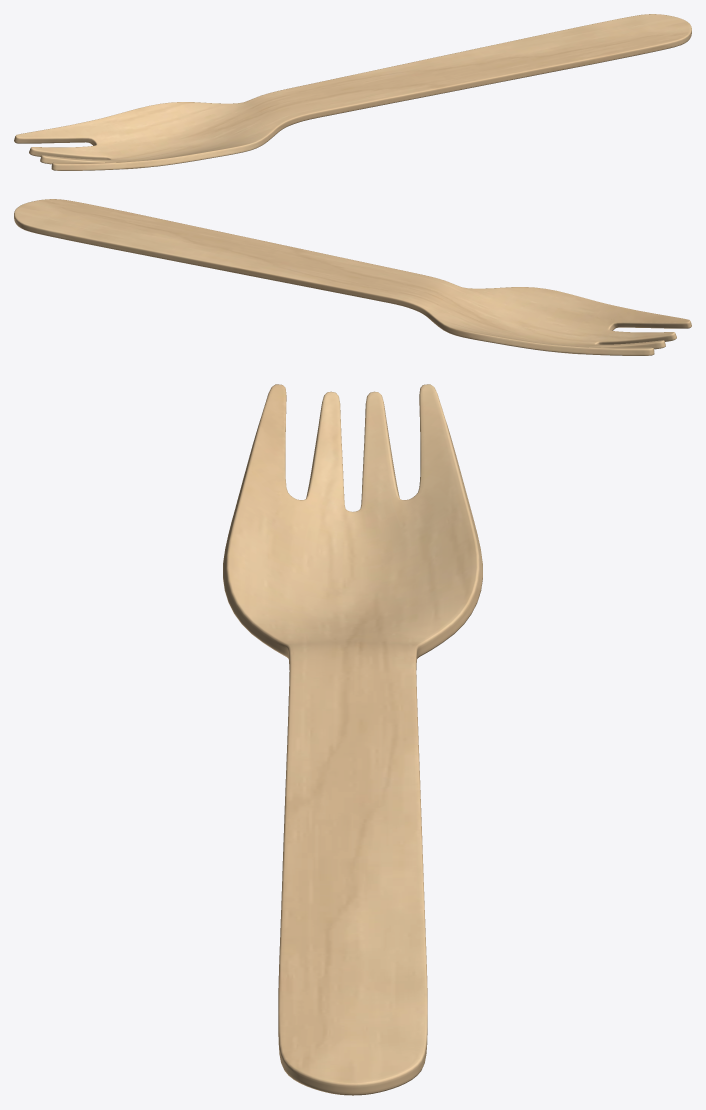
The model's file is 22-wooden-fork-clean-transformed.glb.
The picture shows the model from 3 angles, top to bottom: view 1: azimuth 30°, elevation 25°; view 2: azimuth 150°, elevation 25°; view 3: azimuth 270°, elevation 25°; orthographic projection. The views are drawn at different scales.
Parts seen in each view (by area): view 1: wooden_fork; view 2: wooden_fork; view 3: wooden_fork.
Boxes of the visible parts, x1,y1,x2,y2 form: wooden_fork: [14, 14, 691, 170]; wooden_fork: [14, 199, 691, 355]; wooden_fork: [223, 384, 482, 1095].
Bounding box in the file's own units: 0.1626 × 0.00893 × 0.028.
1 material, 1 textured.
